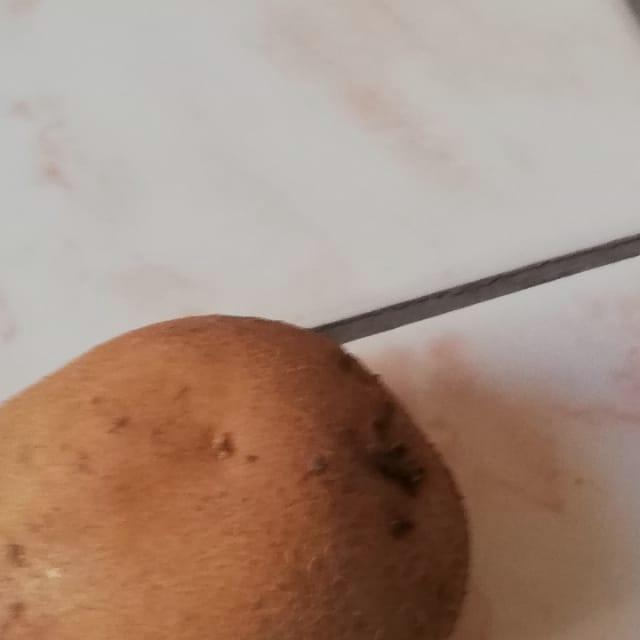potato: (0, 299, 488, 640)
